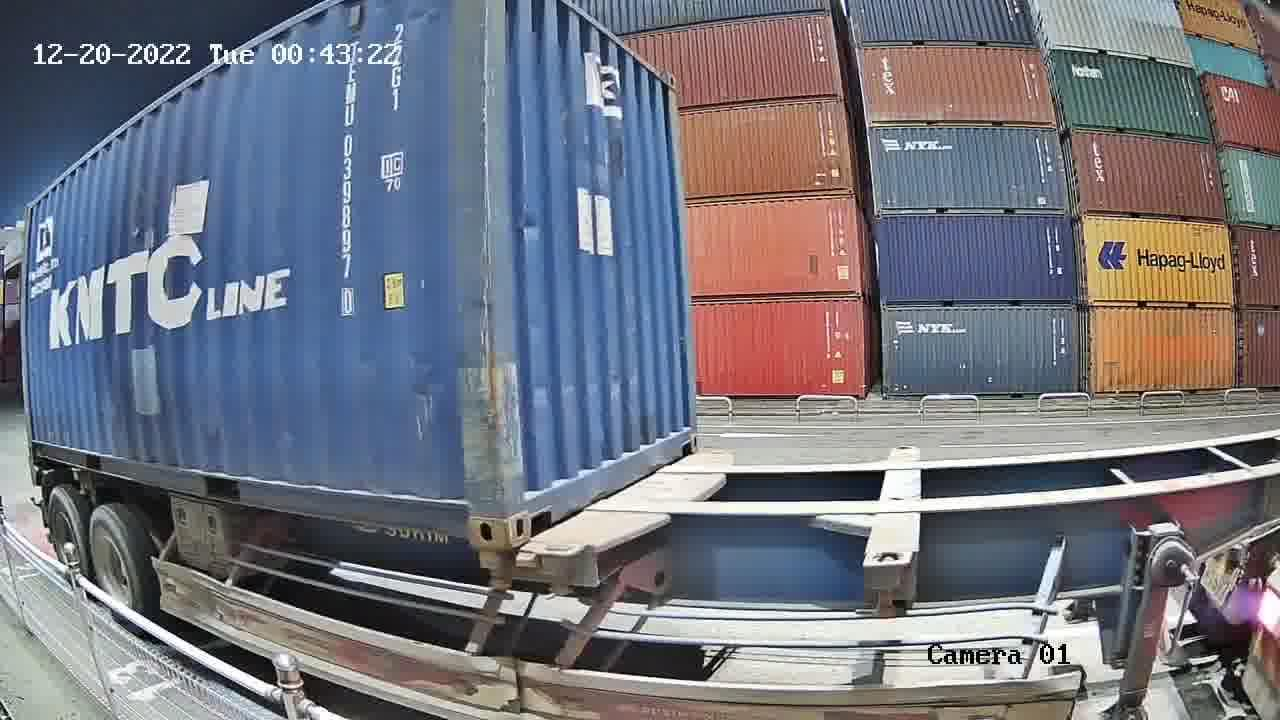Chassis: (551, 450, 729, 550)
Cone: (541, 547, 579, 597), (476, 548, 510, 592)
Hole_L: (503, 462, 562, 546)
Hole_R: (437, 477, 507, 546), (668, 408, 701, 462)
Tire: (88, 514, 135, 606), (49, 492, 83, 570)
